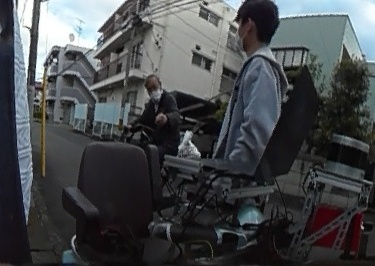person: (220, 0, 284, 177), (134, 72, 180, 146)
